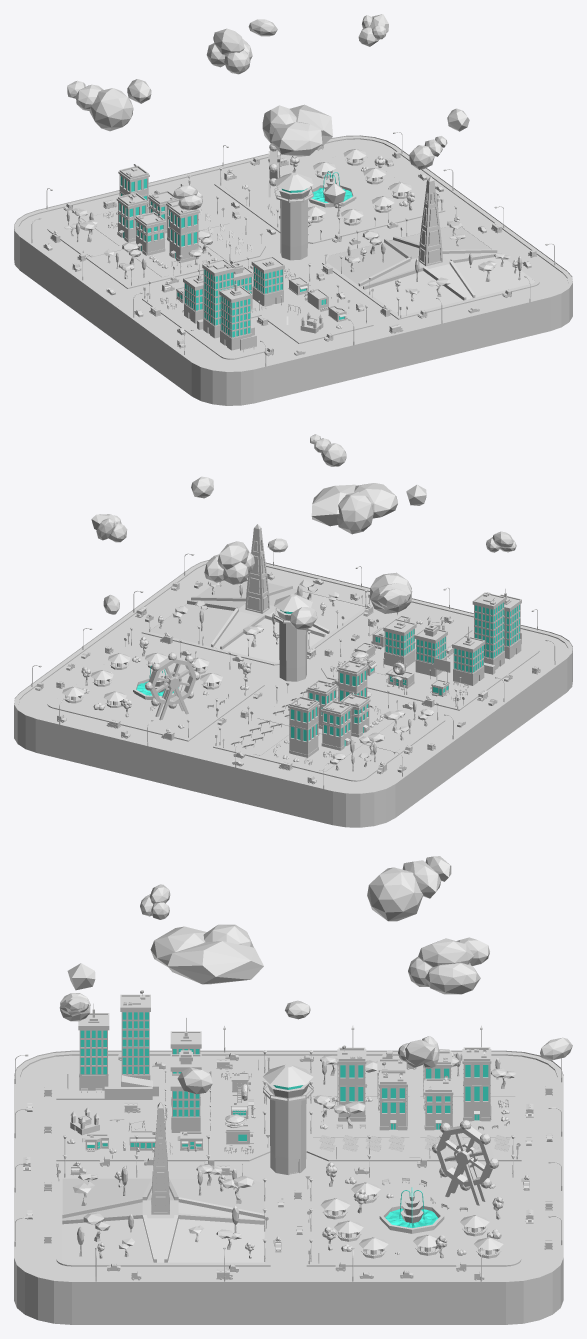
The model's file is CITY.fbx.
3 views of the same model, one above another, from view 1: azimuth 30°, elevation 25°; view 2: azimuth 150°, elevation 25°; view 3: azimuth 270°, elevation 25° (orthographic). The views are drawn at different scales.
Parts seen in each view (by area): view 1: CURVA DESTRA.004, CURVA DESTRA.011, Plane.057, CURVA DESTRA.008, Cylinder.002, Plane.056, Cube.077, GIARDINO, Icosphere.109, Icosphere.120, Plane.020, casa.005 (+56 smaller); view 2: CURVA DESTRA.004, CURVA DESTRA.011, Plane.057, CURVA DESTRA.008, Cylinder.002, Plane.056, Cylinder.009, Plane.020, casa.004, Cube.080, Icosphere.111, Cube.082 (+60 smaller); view 3: CURVA DESTRA.004, CURVA DESTRA.011, Plane.057, CURVA DESTRA.008, Cylinder.002, Plane.056, Icosphere.110, Plane.020, Cylinder.009, Icosphere.120, GIARDINO, Plane.068 (+68 smaller).
Boxes of the visible parts, box(x1,y1,x2,y2) form: CURVA DESTRA.004: box(14, 135, 572, 405); CURVA DESTRA.011: box(326, 176, 534, 315); Plane.057: box(52, 202, 261, 285); CURVA DESTRA.008: box(221, 155, 412, 224); Cylinder.002: box(274, 172, 313, 260); Plane.056: box(276, 191, 424, 240); Cube.077: box(219, 280, 252, 350); GIARDINO: box(265, 306, 366, 340); Icosphere.109: box(271, 122, 322, 156); Icosphere.120: box(89, 88, 133, 131); Plane.020: box(168, 293, 351, 353); casa.005: box(168, 204, 199, 262); CURVA DESTRA.004: box(14, 559, 572, 827); CURVA DESTRA.011: box(150, 524, 364, 662); Plane.057: box(220, 690, 437, 778); CURVA DESTRA.008: box(52, 664, 241, 737); Cylinder.002: box(274, 594, 312, 681); Plane.056: box(104, 645, 260, 697); Cylinder.009: box(148, 657, 196, 720); Plane.020: box(375, 609, 501, 692); casa.004: box(288, 696, 319, 757); Cube.080: box(452, 626, 485, 685); Icosphere.111: box(337, 492, 373, 534); Cube.082: box(383, 618, 416, 668); CURVA DESTRA.004: box(14, 1050, 563, 1324); CURVA DESTRA.011: box(62, 1102, 264, 1262); Plane.057: box(312, 1072, 515, 1157); CURVA DESTRA.008: box(376, 1177, 514, 1262); Cylinder.002: box(263, 1064, 313, 1174); Plane.056: box(313, 1178, 376, 1262); Icosphere.110: box(167, 941, 263, 984); Plane.020: box(14, 1066, 215, 1138); Cylinder.009: box(436, 1126, 494, 1205); Icosphere.120: box(367, 867, 422, 921); GIARDINO: box(62, 1116, 152, 1157); Plane.068: box(62, 1072, 152, 1116).
Bounding box in the file's own units: 11342 × 6110 × 11582.
